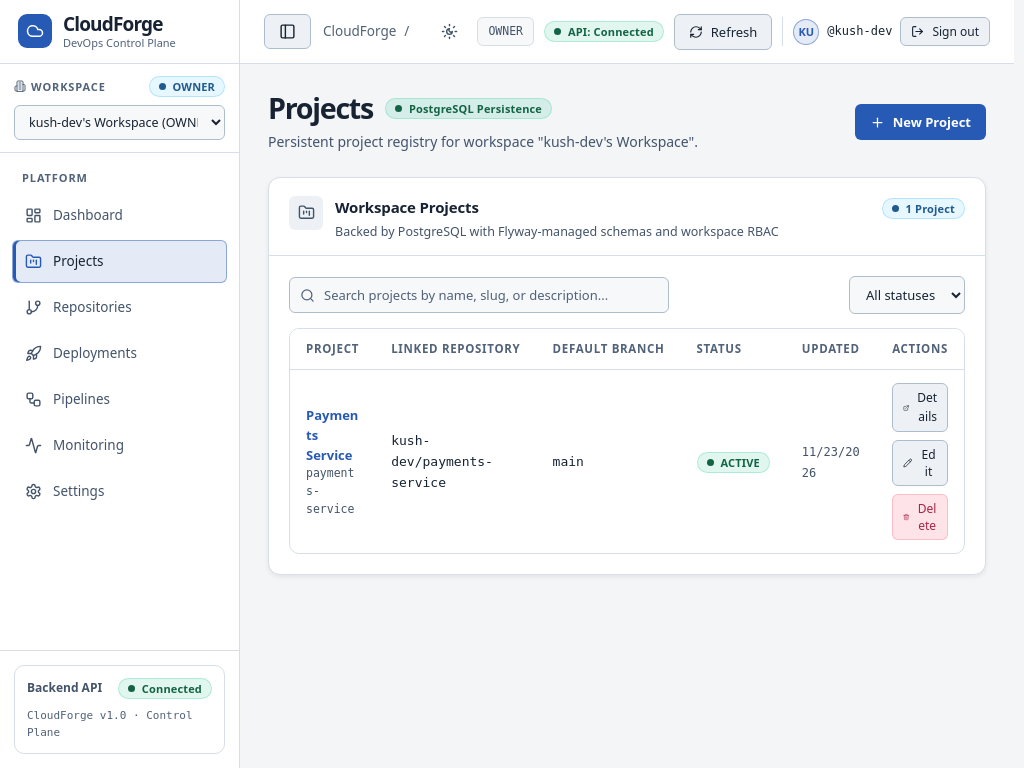
Test: CloudForge Phase 2 Web Console › deletes a project only after explicit confirmation
Expected: the link "Payments Service" is shown, top-left (306, 406), bottom-right (358, 464)
Click the button with aria-label "Delete Payments Service" at (920, 517), box top-left (892, 494), bottom-right (948, 540)
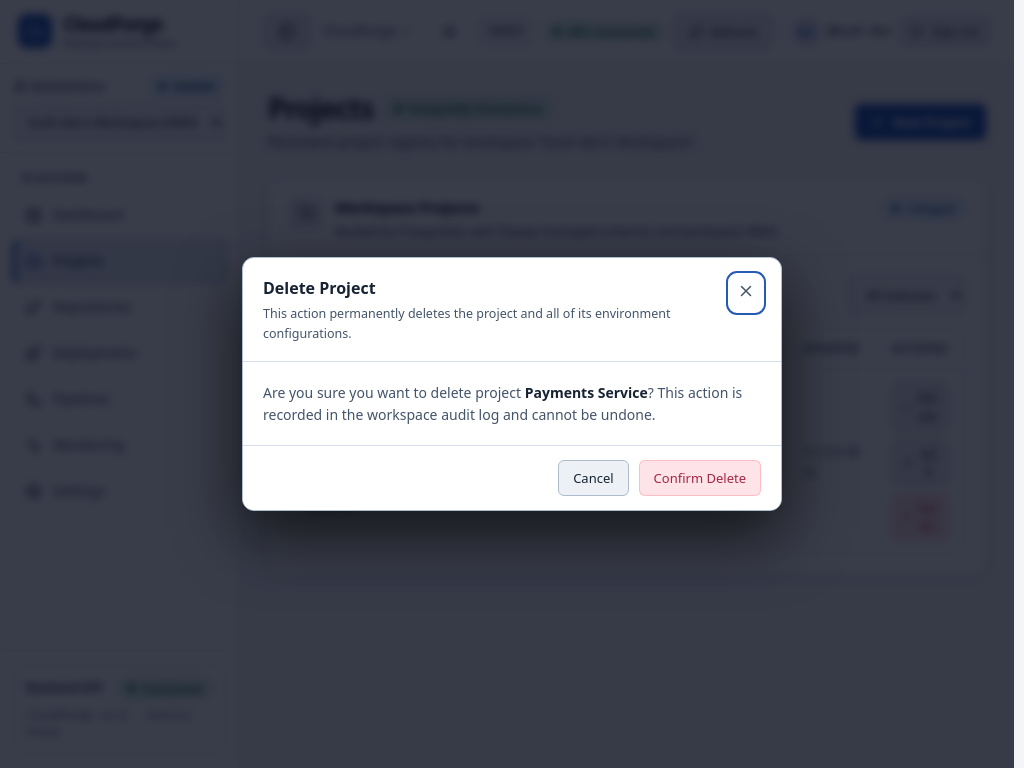
Expected: the dialog is shown, top-left (242, 256), bottom-right (782, 511)
Click the button "Confirm Delete" at (700, 478), box top-left (639, 460), bottom-right (761, 496)
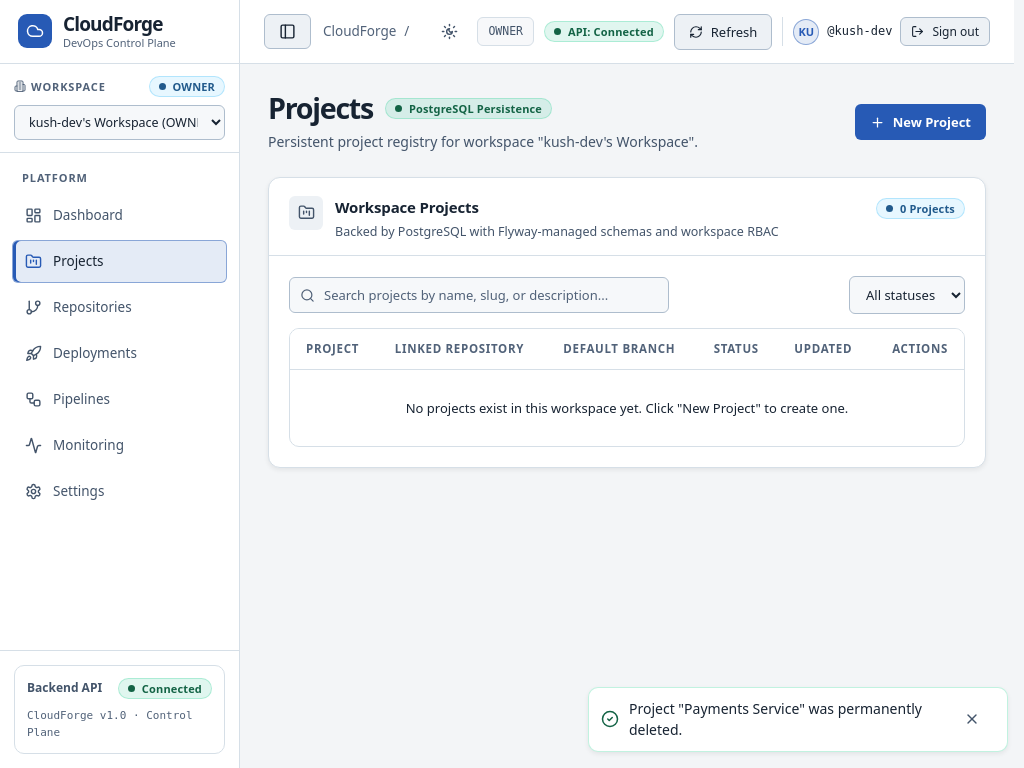
Expected: the text "Project \"Payments Service\" was permanently deleted." is shown, top-left (629, 698), bottom-right (939, 741)
